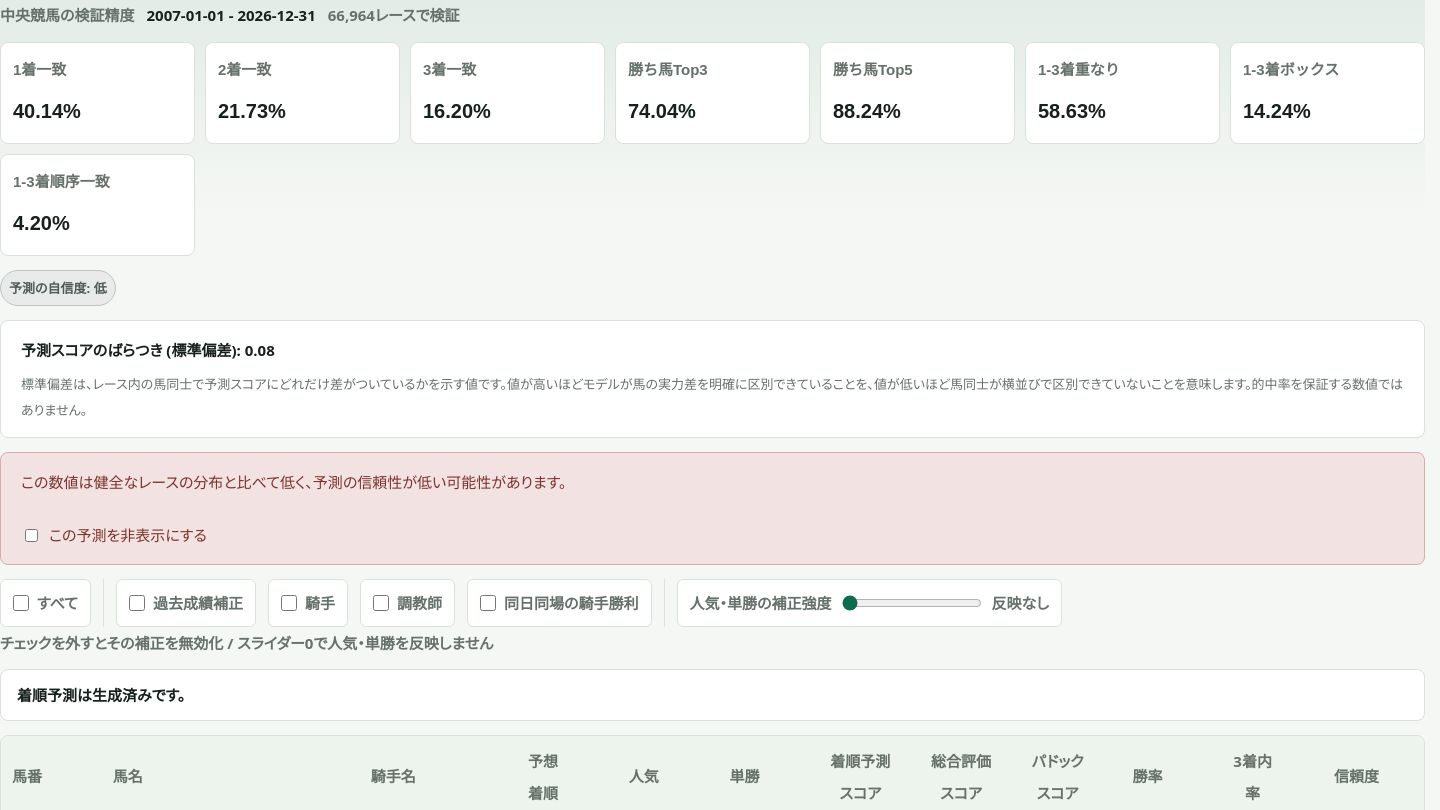
FinishPositionPredictionTable hides the ranked table and shows the hidden-by-user message once the user checks the hide toggle
The image size is (1440, 810).
Click the checkbox labelled "この予測を非表示にする".
click(32, 535)  # box [25,528,38,542]
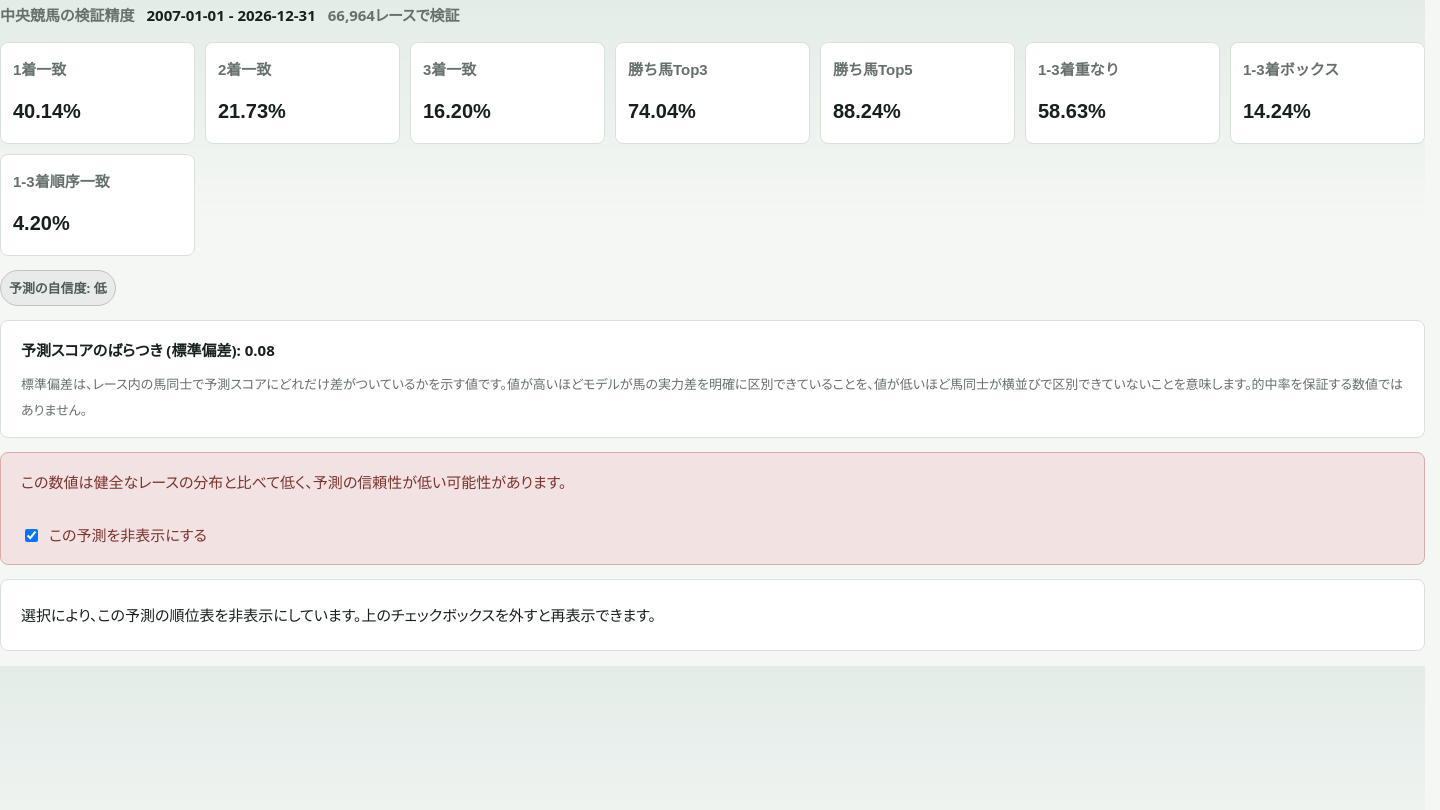
Expected: the text with class "finish-prediction-hidden-by-user-message" reads "選択により、この予測の順位表を非表示にしています。上のチェックボックスを外すと再表示できます。", [21,605,656,625]
Expected: the element with class "finish-prediction-odds-toggle" is gone
